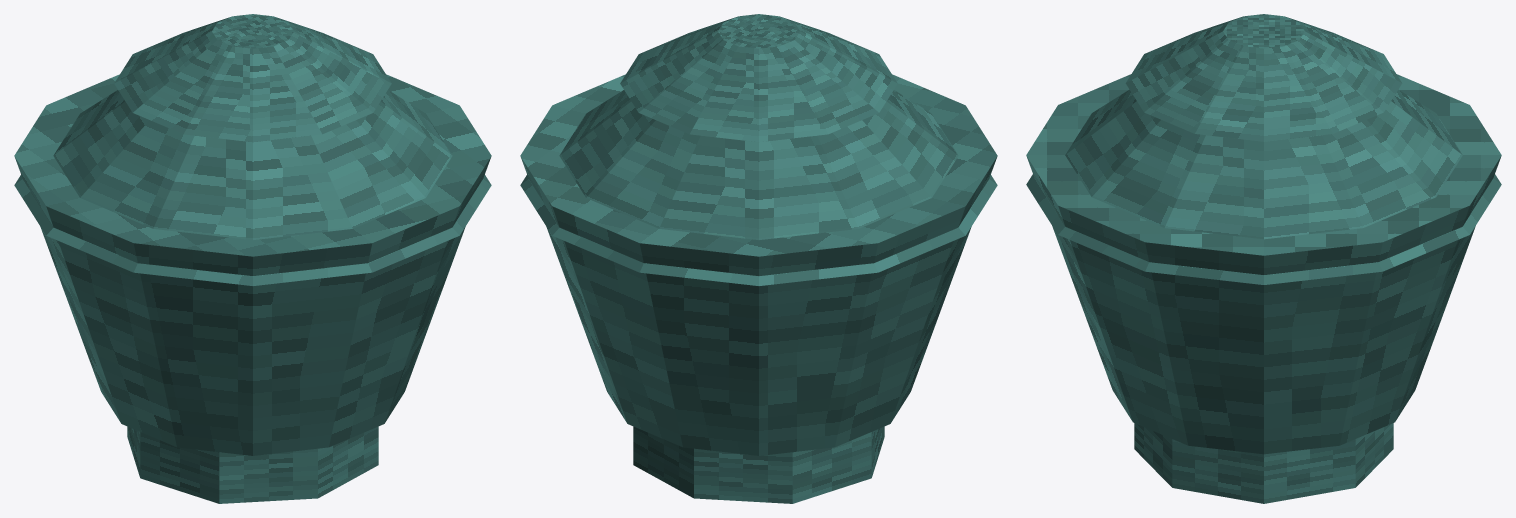
File: urn_37.glb
The picture shows the model from 3 angles, left to right: view 1: azimuth 30°, elevation 25°; view 2: azimuth 150°, elevation 25°; view 3: azimuth 270°, elevation 25°; orthographic projection.
Visible parts, largest first — view 1: Belly, Neck, Lid, Foot; view 2: Belly, Neck, Lid, Foot; view 3: Belly, Neck, Lid, Foot.
Boxes of the visible parts, <box> form: Belly: <box>14,74,491,455</box>; Neck: <box>14,90,491,285</box>; Lid: <box>114,14,391,142</box>; Foot: <box>127,426,378,503</box>; Belly: <box>520,74,997,455</box>; Neck: <box>520,90,997,285</box>; Lid: <box>620,14,897,142</box>; Foot: <box>633,426,884,503</box>; Belly: <box>1026,74,1501,454</box>; Neck: <box>1026,89,1501,284</box>; Lid: <box>1125,14,1402,141</box>; Foot: <box>1134,423,1393,503</box>.
Size of the model in its own units: 1.16 by 1.13 by 1.16.
1 material, 1 textured.
